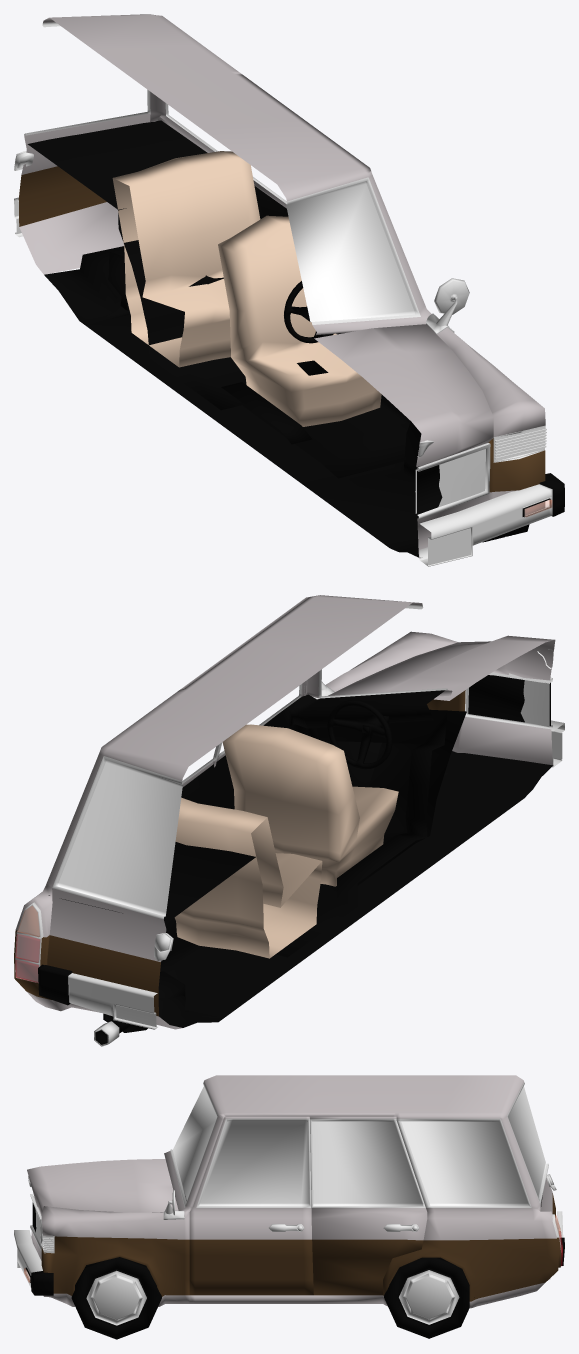
The model's file is car.glb.
The picture shows the model from 3 angles, top to bottom: view 1: azimuth 30°, elevation 25°; view 2: azimuth 150°, elevation 25°; view 3: azimuth 270°, elevation 25°; orthographic projection. The views are drawn at different scales.
Visible parts, largest first — view 1: chasis, seat Back, interior, seat, bottom car, motor, door.001, f. bumper, radiadotr, mirror, glass light, matricula (+1 smaller); view 2: chasis, door.001, interior, bottom car, seat, seat Back, motor, bumper, stering wheel, backlihght, escape, radiadotr; view 3: chasis, front door, back door, motor, wheel 1, wheel 1.001, door.001, f. bumper.
Boxes of the visible parts, x1=… form: chasis: x1=19, y1=14, x2=545, y2=558; seat Back: x1=112, y1=151, x2=260, y2=367; interior: x1=27, y1=120, x2=410, y2=478; seat: x1=218, y1=215, x2=381, y2=426; bottom car: x1=44, y1=246, x2=488, y2=557; motor: x1=314, y1=324, x2=493, y2=466; door.001: x1=18, y1=22, x2=150, y2=226; f. bumper: x1=419, y1=473, x2=564, y2=566; radiadotr: x1=415, y1=449, x2=485, y2=513; mirror: x1=426, y1=278, x2=469, y2=334; glass light: x1=494, y1=427, x2=546, y2=461; matricula: x1=428, y1=528, x2=470, y2=565; chasis: x1=14, y1=595, x2=553, y2=1029; door.001: x1=47, y1=756, x2=182, y2=1016; interior: x1=48, y1=690, x2=466, y2=957; bottom car: x1=158, y1=741, x2=553, y2=1027; seat: x1=222, y1=724, x2=398, y2=886; seat Back: x1=174, y1=797, x2=322, y2=958; motor: x1=328, y1=635, x2=555, y2=700; bumper: x1=38, y1=964, x2=157, y2=1029; stering wheel: x1=327, y1=700, x2=392, y2=769; backlihght: x1=15, y1=906, x2=39, y2=982; escape: x1=94, y1=971, x2=185, y2=1046; radiadotr: x1=466, y1=680, x2=549, y2=727; chasis: x1=30, y1=1075, x2=561, y2=1308; front door: x1=189, y1=1116, x2=313, y2=1295; back door: x1=310, y1=1116, x2=427, y2=1295; motor: x1=27, y1=1159, x2=178, y2=1214; wheel 1: x1=71, y1=1257, x2=161, y2=1339; wheel 1.001: x1=384, y1=1257, x2=474, y2=1338; door.001: x1=507, y1=1082, x2=555, y2=1217; f. bumper: x1=14, y1=1230, x2=53, y2=1295.
Bounding box in the file's own units: 1.01 × 1.89 × 4.36.
